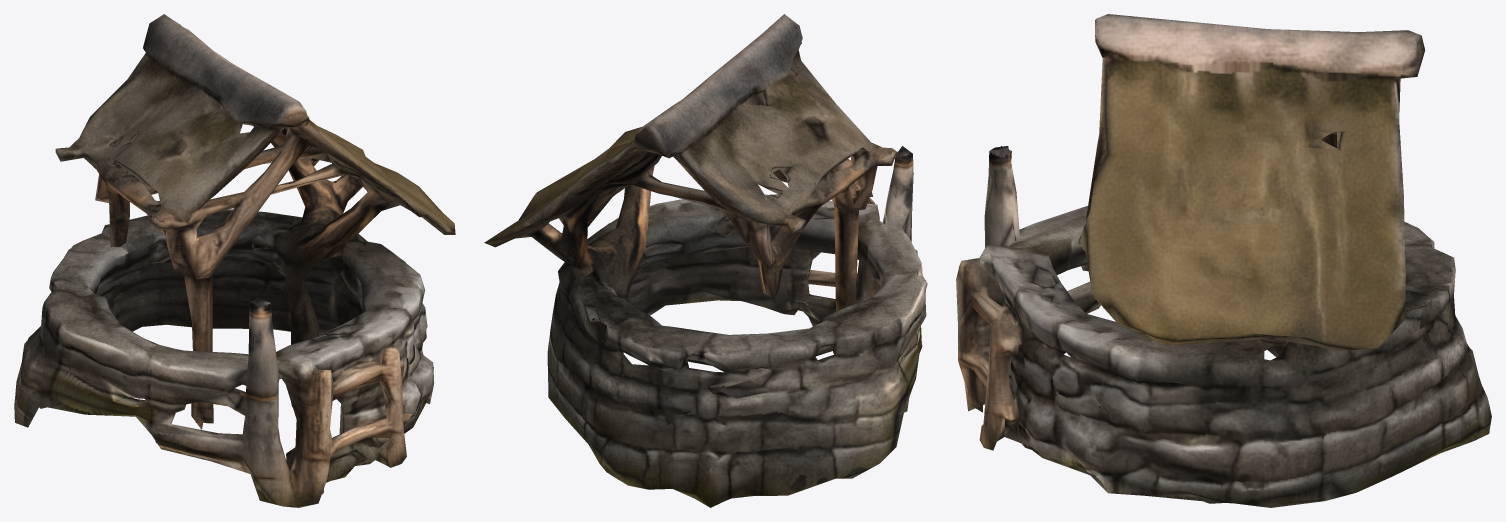
Rendered from well.glb.
3 renders of one model, left to right at view 1: azimuth 30°, elevation 25°; view 2: azimuth 150°, elevation 25°; view 3: azimuth 270°, elevation 25°, orthographic. The views are drawn at different scales.
Visible parts, largest first — view 1: geometry_0; view 2: geometry_0; view 3: geometry_0.
Boxes of the visible parts, x1,y1,x2,y2 form: geometry_0: (14, 14, 455, 507); geometry_0: (484, 14, 927, 507); geometry_0: (956, 14, 1491, 507).
Size of the model in its own units: 0.9506 by 0.8885 by 0.993.
1 material, 1 textured.
